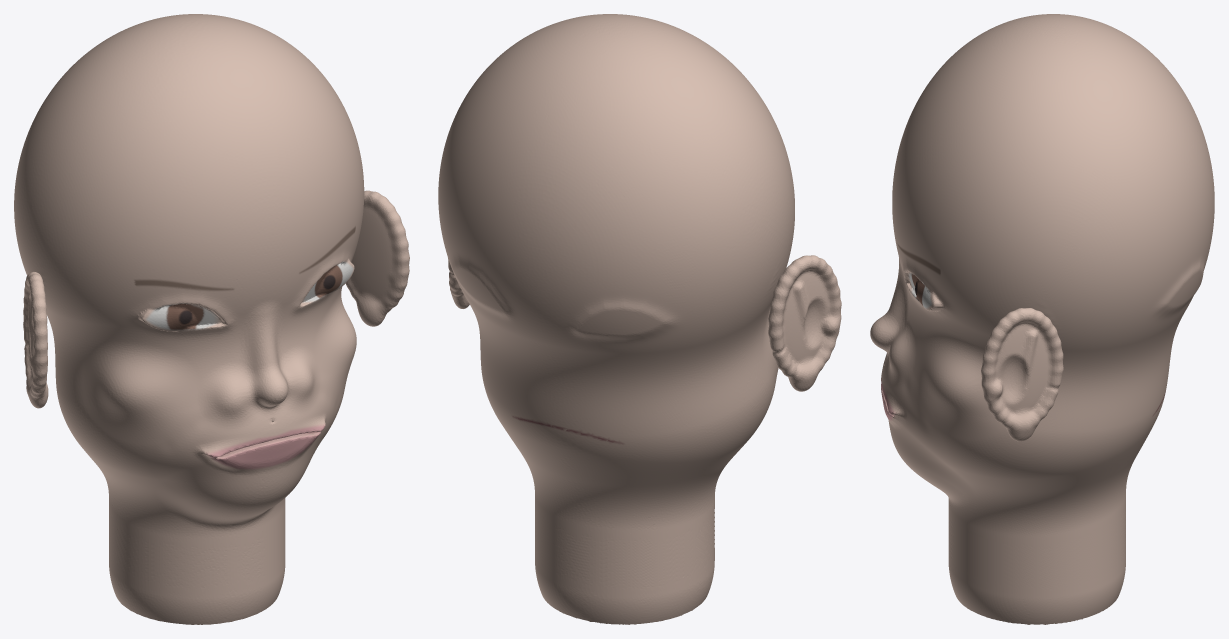
The model's file is karma_face_stage1_Q_neutral_EXPERIMENT.glb.
3 views of the same model, side by side, from view 1: azimuth 30°, elevation 25°; view 2: azimuth 150°, elevation 25°; view 3: azimuth 270°, elevation 25° (orthographic).
Visible parts, largest first — view 1: head; view 2: head; view 3: head.
Part boxes in pixels (bbox=[...]): head: bbox=[14, 14, 409, 624]; head: bbox=[438, 14, 841, 624]; head: bbox=[870, 14, 1214, 624].
Bounding box in the file's own units: 2.7 × 3.83 × 2.14.
